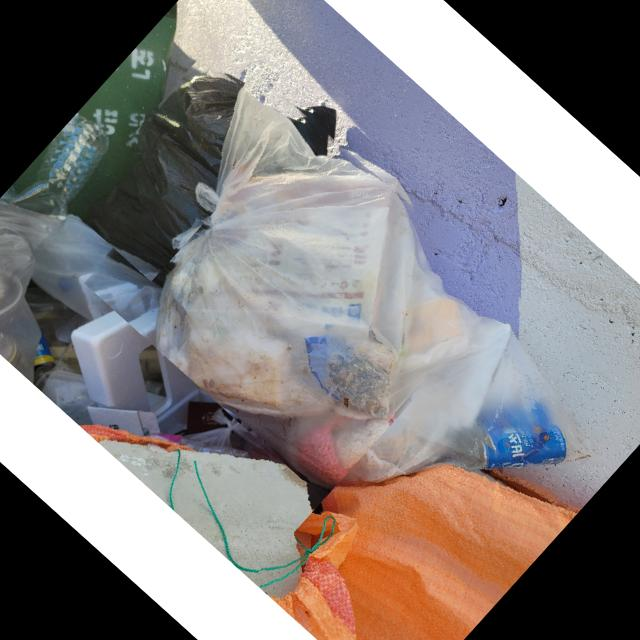other_trashbag: (155, 92, 595, 486), (324, 464, 576, 640), (84, 74, 240, 270)
